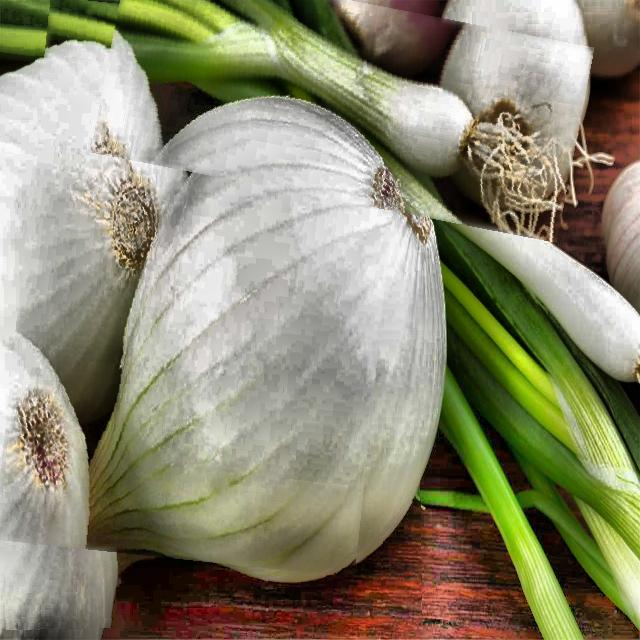onion: (0, 32, 419, 628), (6, 5, 397, 569)
spring onions: (97, 0, 587, 220)
